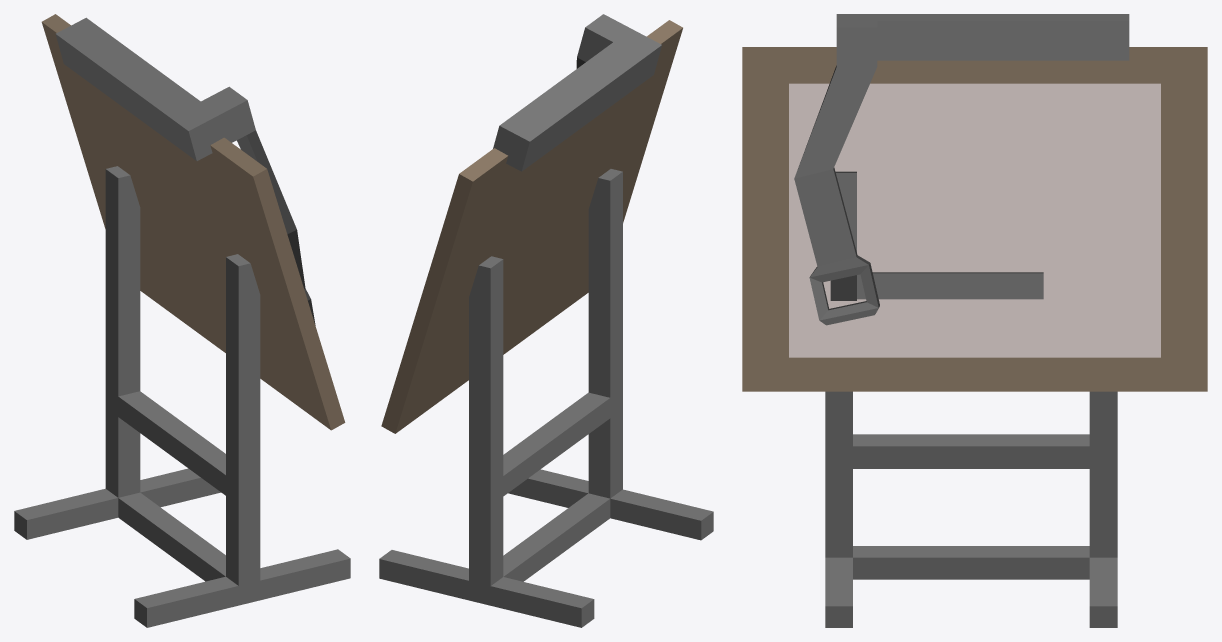
Rendered from kulman.gltf.
3 views of the same model, side by side, from view 1: azimuth 30°, elevation 25°; view 2: azimuth 150°, elevation 25°; view 3: azimuth 270°, elevation 25° (orthographic). The views are drawn at different scales.
Visible parts, largest first — view 1: Cube.001, Cube, Cube.002; view 2: Cube.001, Cube, Cube.002; view 3: Cube, Cube.001, Cube.002, Cube.003.
Part boxes in pixels (left/top/right/bottom): Cube.001: left=14, top=166, right=350, bottom=627; Cube: left=41, top=14, right=345, bottom=430; Cube.002: left=55, top=17, right=315, bottom=325; Cube.001: left=379, top=169, right=713, bottom=627; Cube: left=381, top=20, right=682, bottom=433; Cube.002: left=493, top=14, right=661, bottom=171; Cube: left=742, top=47, right=1207, bottom=391; Cube.001: left=825, top=391, right=1117, bottom=627; Cube.002: left=794, top=14, right=1129, bottom=325; Cube.003: left=830, top=171, right=1043, bottom=300.
Size of the model in its own units: 2.97 by 6.94 by 5.34.
